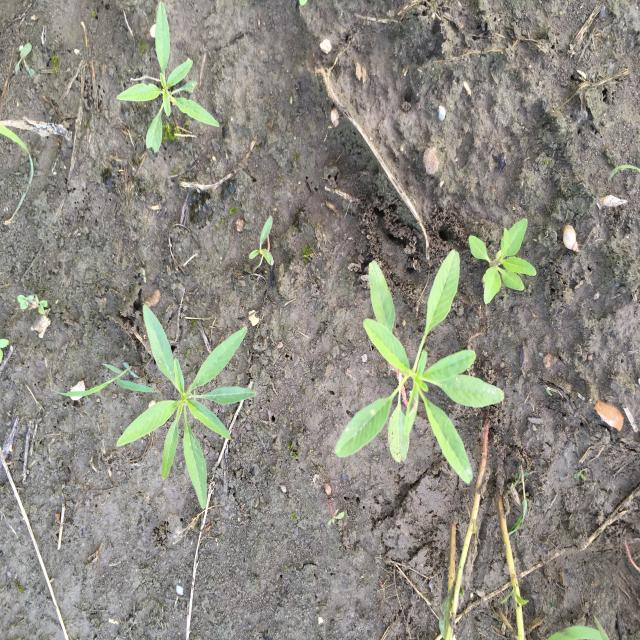Eclipta: (467, 216, 538, 306)
Waterhemp: (334, 248, 505, 485), (116, 303, 258, 511), (115, 1, 221, 155), (247, 215, 278, 268)
